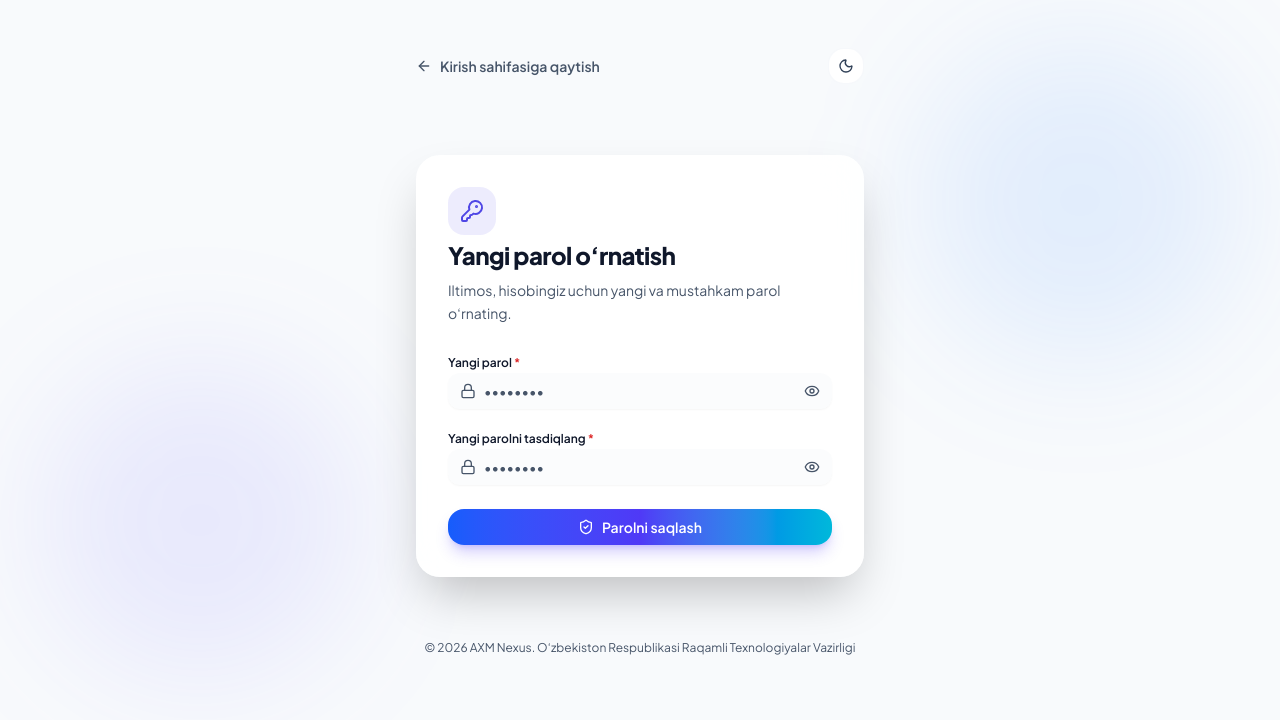
Test: Authentication Pages (Standalone Pages) › ResetPasswordPage › renders password fields and resets password successfully
Expected: the heading "Yangi parol o‘rnatish" is shown, [448,240,675,270]
Type "yangiParol999" into the password field with placeholder "••••••••" at (640, 391), box [448,373,832,409]
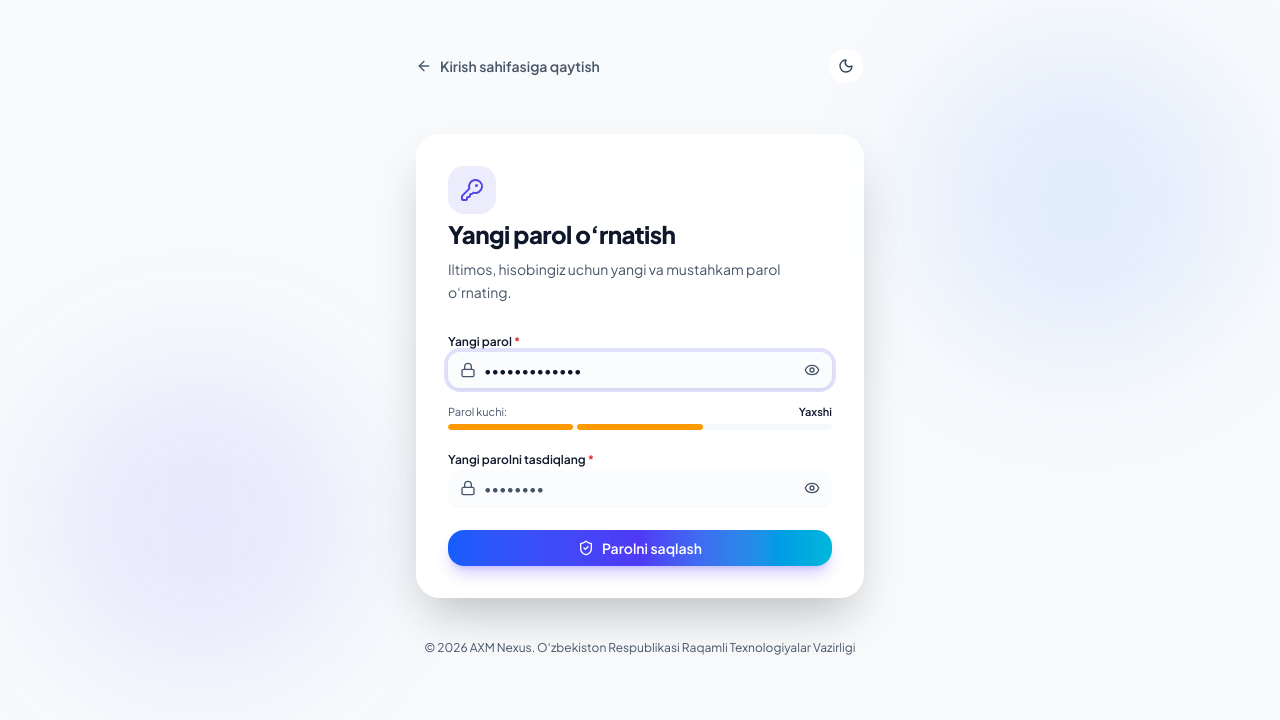
Type "yangiParol999" into the password field with placeholder "••••••••" at (640, 488), box [448,470,832,506]
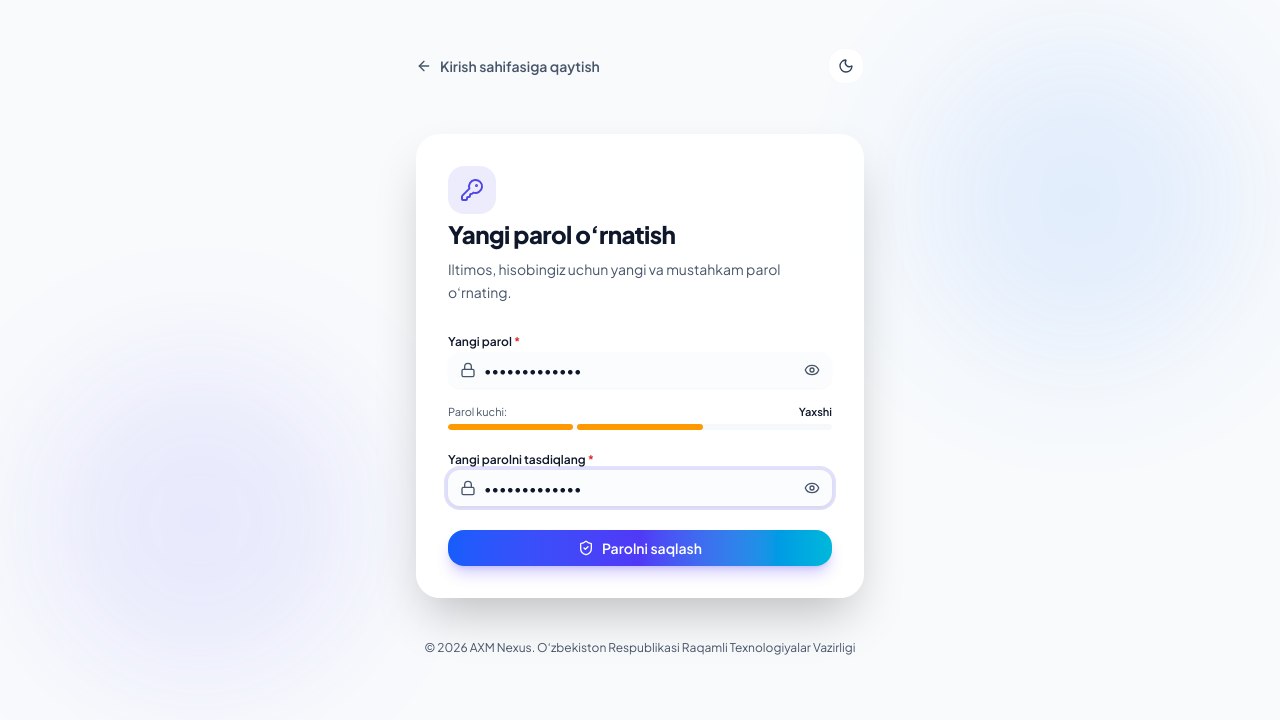
Click the button "Parolni saqlash" at (640, 548), box [448,530,832,566]
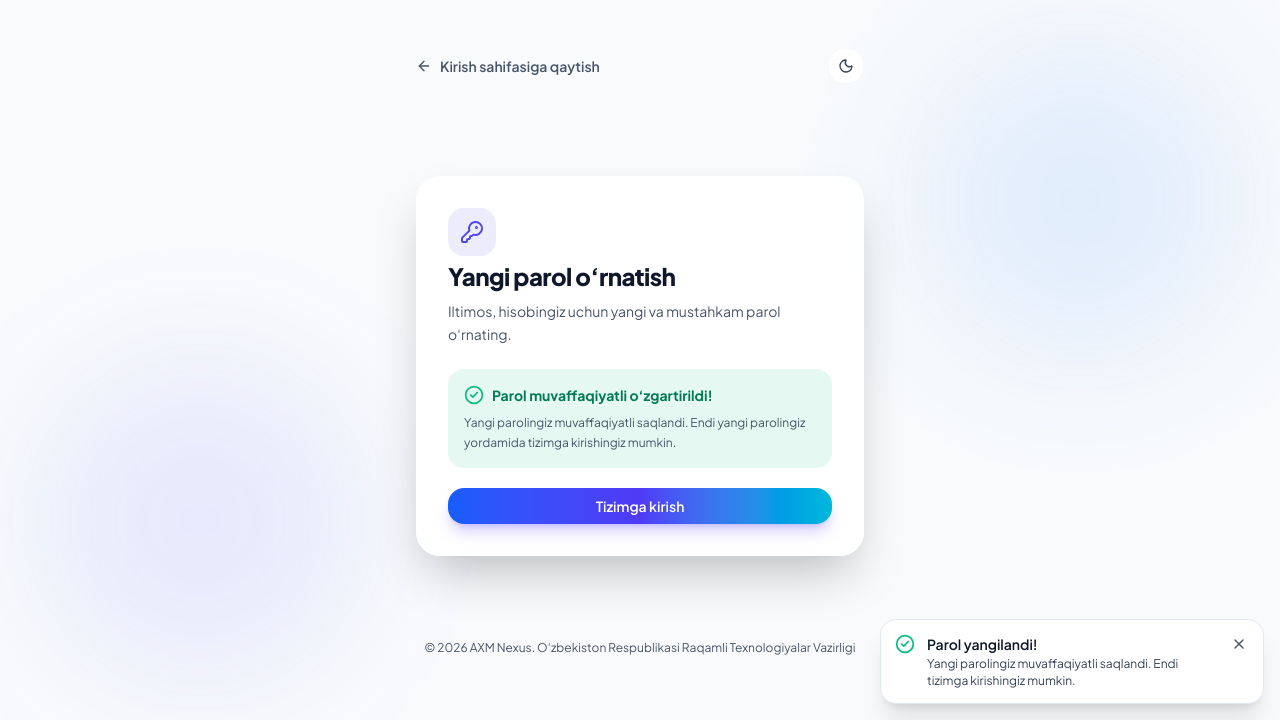
Expected: the text "Parol muvaffaqiyatli o‘zgartirildi!" is shown, [492,385,713,405]
